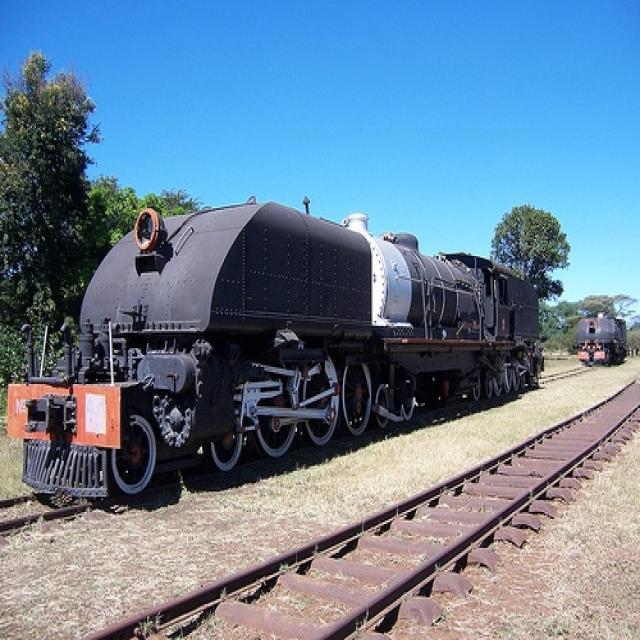train: (8, 196, 544, 507), (576, 311, 628, 367)
